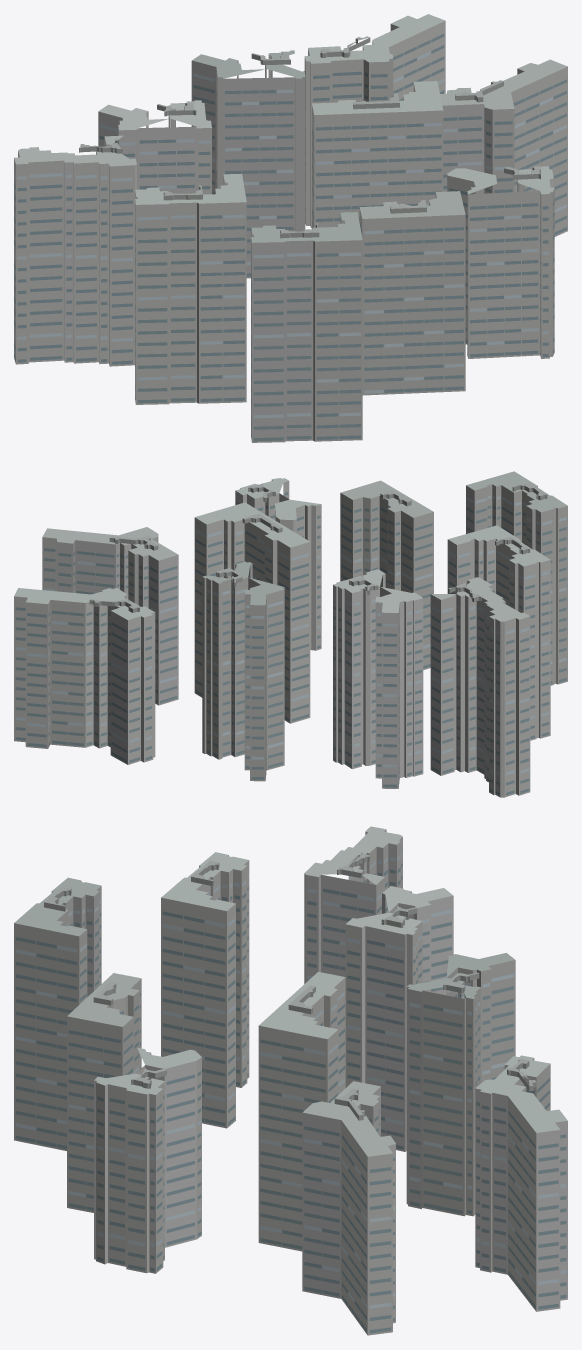
Rendered from apt-a10027188.glb.
3 renders of one model, top to bottom at view 1: azimuth 30°, elevation 25°; view 2: azimuth 150°, elevation 25°; view 3: azimuth 270°, elevation 25°, orthographic. The views are drawn at different scales.
Visible parts, largest first — view 1: apt-a10027188; view 2: apt-a10027188; view 3: apt-a10027188.
Boxes of the visible parts, box(x1,y1,x2,y2) form: apt-a10027188: box(14, 14, 567, 442); apt-a10027188: box(14, 471, 567, 797); apt-a10027188: box(14, 826, 567, 1335).
Size of the model in its own units: 293 by 104 by 235.
